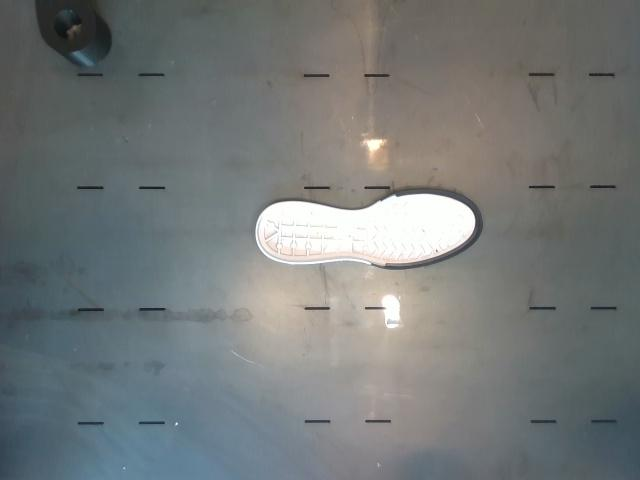shoes: (258, 190, 481, 268)
